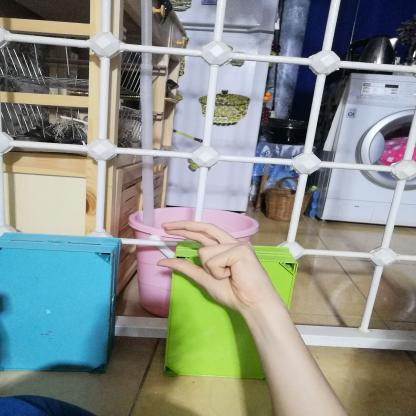DHELL: (146, 212, 280, 316)
